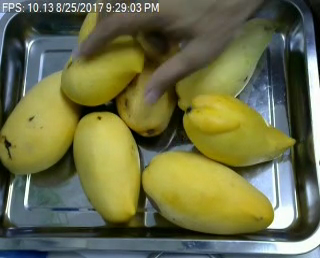Mango: (143, 152, 274, 235), (0, 68, 100, 175), (171, 18, 275, 113), (59, 0, 141, 105), (183, 93, 297, 168), (71, 110, 141, 225), (112, 57, 177, 137)
